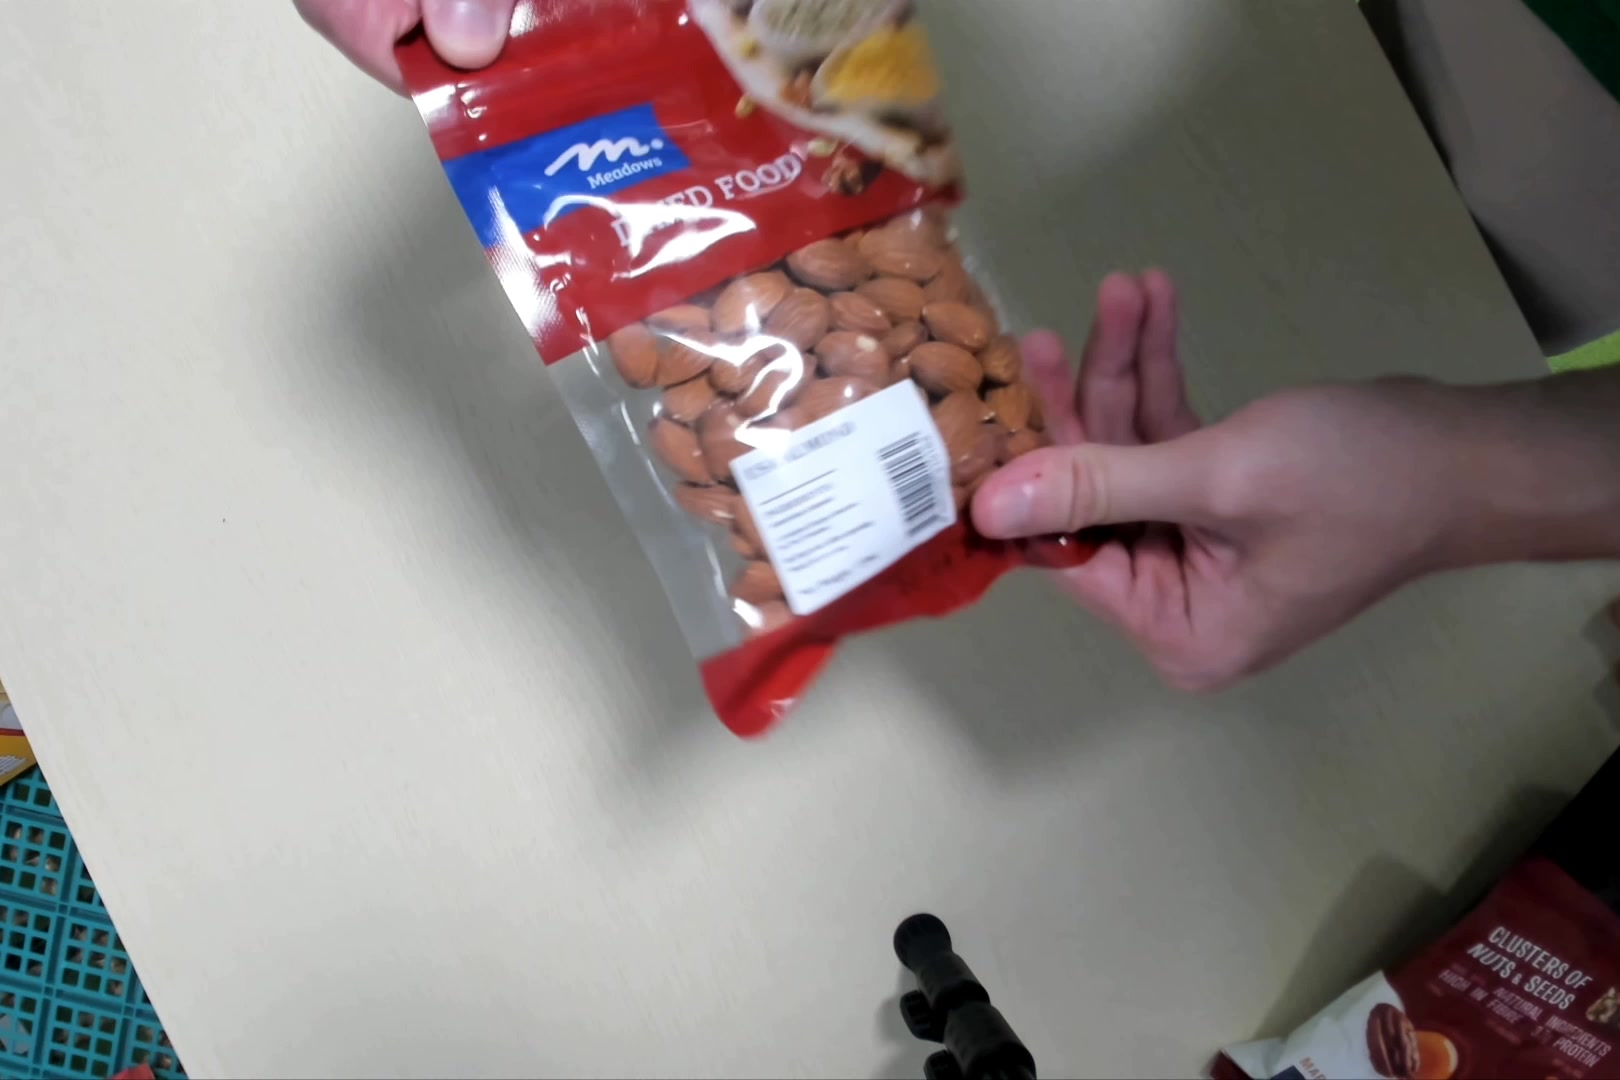Nuts_100-199g_NonHalal_NonHealthy: (397, 13, 1094, 723)
